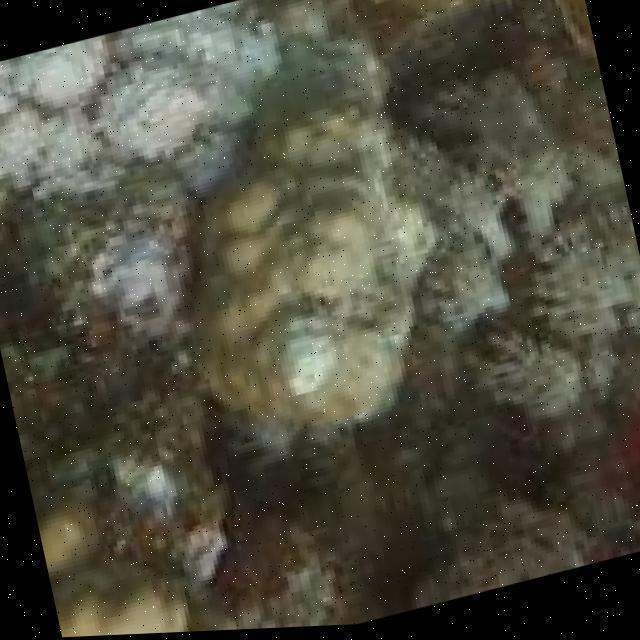Bleached Coral: (5, 47, 243, 182)
